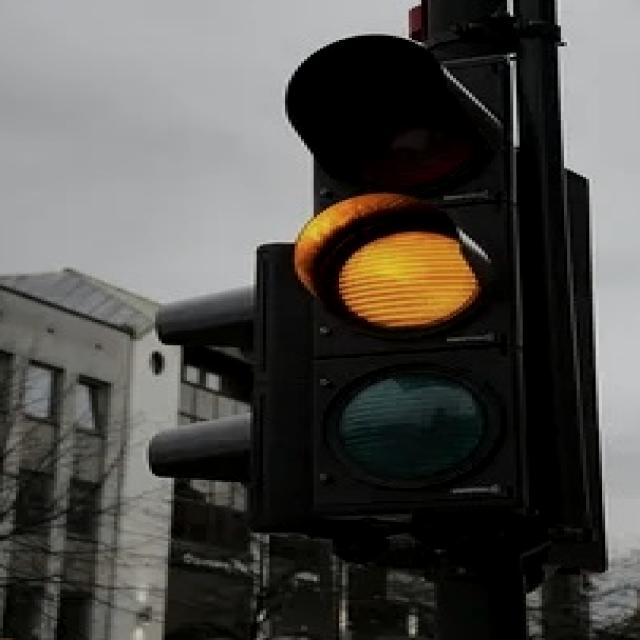sari: (284, 34, 521, 513)
